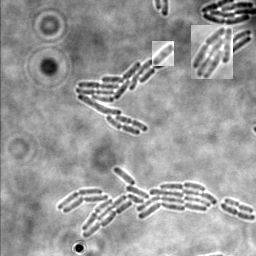Dividing: (219, 204, 255, 222), (223, 199, 253, 215)
Microcolony: (57, 167, 216, 238), (75, 59, 169, 136), (191, 25, 233, 79), (200, 1, 255, 26)
Rod: (152, 41, 174, 66)
